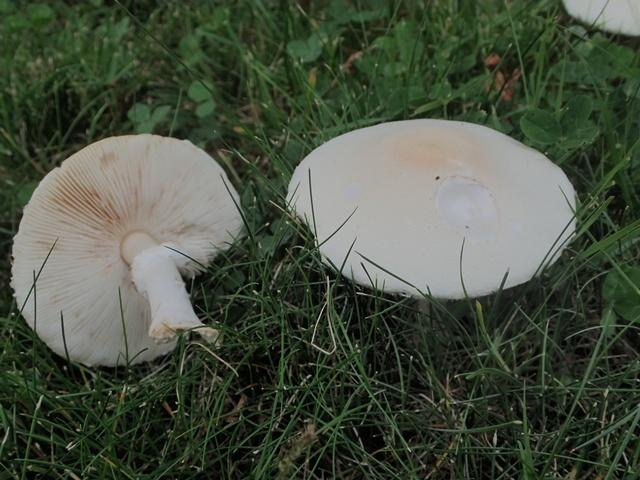Non-edible Mushroom: (284, 116, 579, 318), (8, 132, 246, 368)
